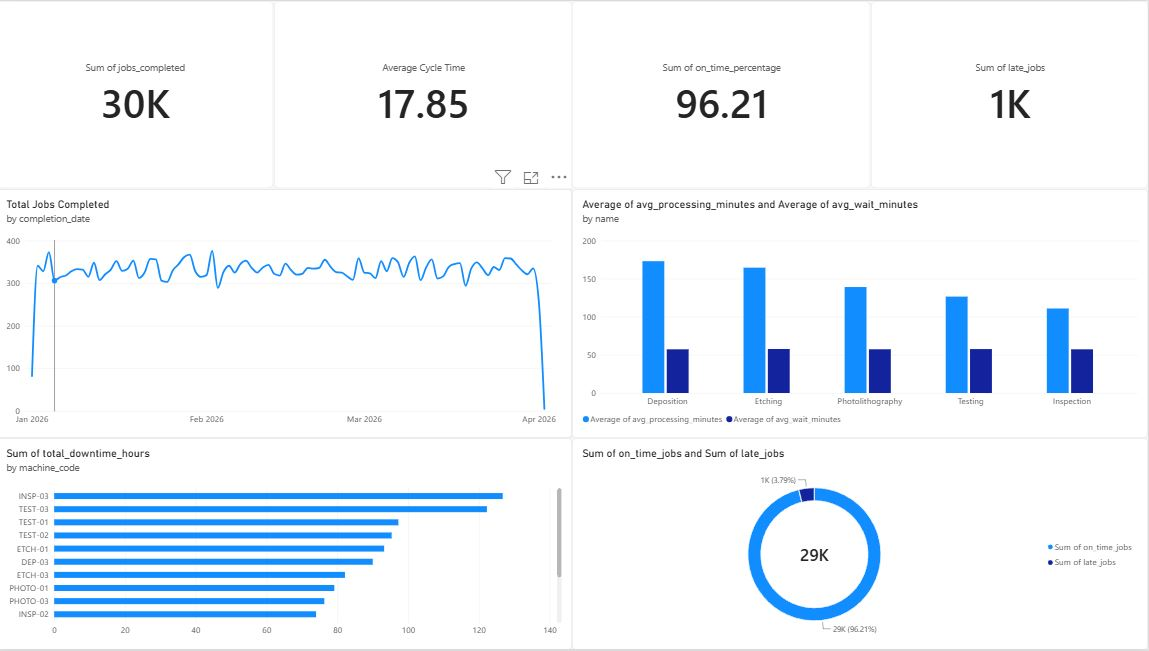

This screenshot's page, from the dashboard's own definition file:
{"tool":"powerbi","page":{"name":"Page 1","canvas":[1920,1080],"ordinal":0},"visuals":[{"type":"cardVisual","fields":{"Data":["Sum(public v_daily_throughput.jobs_completed)"]},"box":[0,0,462.5,312],"z":0},{"type":"cardVisual","fields":{"Data":["public v_product_cycle_time.Average Cycle Time"]},"box":[462.5,0,497.5,312],"z":1000},{"type":"lineChart","fields":{"Category":["public v_daily_throughput.completion_date"],"Y":["public v_daily_throughput.Total Jobs Completed"]},"box":[0,312.5,960,415],"z":2000},{"type":"clusteredColumnChart","fields":{"Category":["public v_work_center_performance.name"],"Y":["Avg(public v_work_center_performance.avg_processing_minutes)","Avg(public v_work_center_performance.avg_wait_minutes)"]},"box":[960,312.5,960,415],"z":3000},{"type":"barChart","fields":{"Category":["public v_machine_downtime.machine_code"],"Y":["Sum(public v_machine_downtime.total_downtime_hours)"]},"box":[0,727.5,960,352.5],"z":4000},{"type":"cardVisual","fields":{"Data":["Sum(public v_delivery_performance.on_time_percentage)"]},"box":[960,0,497.5,312],"z":5000},{"type":"donutChart","fields":{"Y":["Sum(public v_delivery_performance.on_time_jobs)","Sum(public v_delivery_performance.late_jobs)"]},"box":[960,727.5,960,352.5],"z":6000},{"type":"cardVisual","fields":{"Data":["Sum(public v_delivery_performance.late_jobs)"]},"box":[1457.5,0,462.5,312],"z":7000}]}

Visuals, with their boxes in screenshot pixels (x1, y1, x2, y2), scaled from the page's 1920x1080 canvas onto the 1149x651 screenshot:
cardVisual - Sum(public v_daily_throughput.jobs_completed): x1=0 y1=0 x2=277 y2=188
cardVisual - public v_product_cycle_time.Average Cycle Time: x1=277 y1=0 x2=574 y2=188
lineChart - public v_daily_throughput.completion_date x public v_daily_throughput.Total Jobs Completed: x1=0 y1=188 x2=574 y2=439
clusteredColumnChart - public v_work_center_performance.name x Avg(public v_work_center_performance.avg_processing_minutes): x1=574 y1=188 x2=1148 y2=439
barChart - public v_machine_downtime.machine_code x Sum(public v_machine_downtime.total_downtime_hours): x1=0 y1=439 x2=574 y2=650
cardVisual - Sum(public v_delivery_performance.on_time_percentage): x1=574 y1=0 x2=872 y2=188
donutChart - Sum(public v_delivery_performance.on_time_jobs) x Sum(public v_delivery_performance.late_jobs): x1=574 y1=439 x2=1148 y2=650
cardVisual - Sum(public v_delivery_performance.late_jobs): x1=872 y1=0 x2=1148 y2=188
